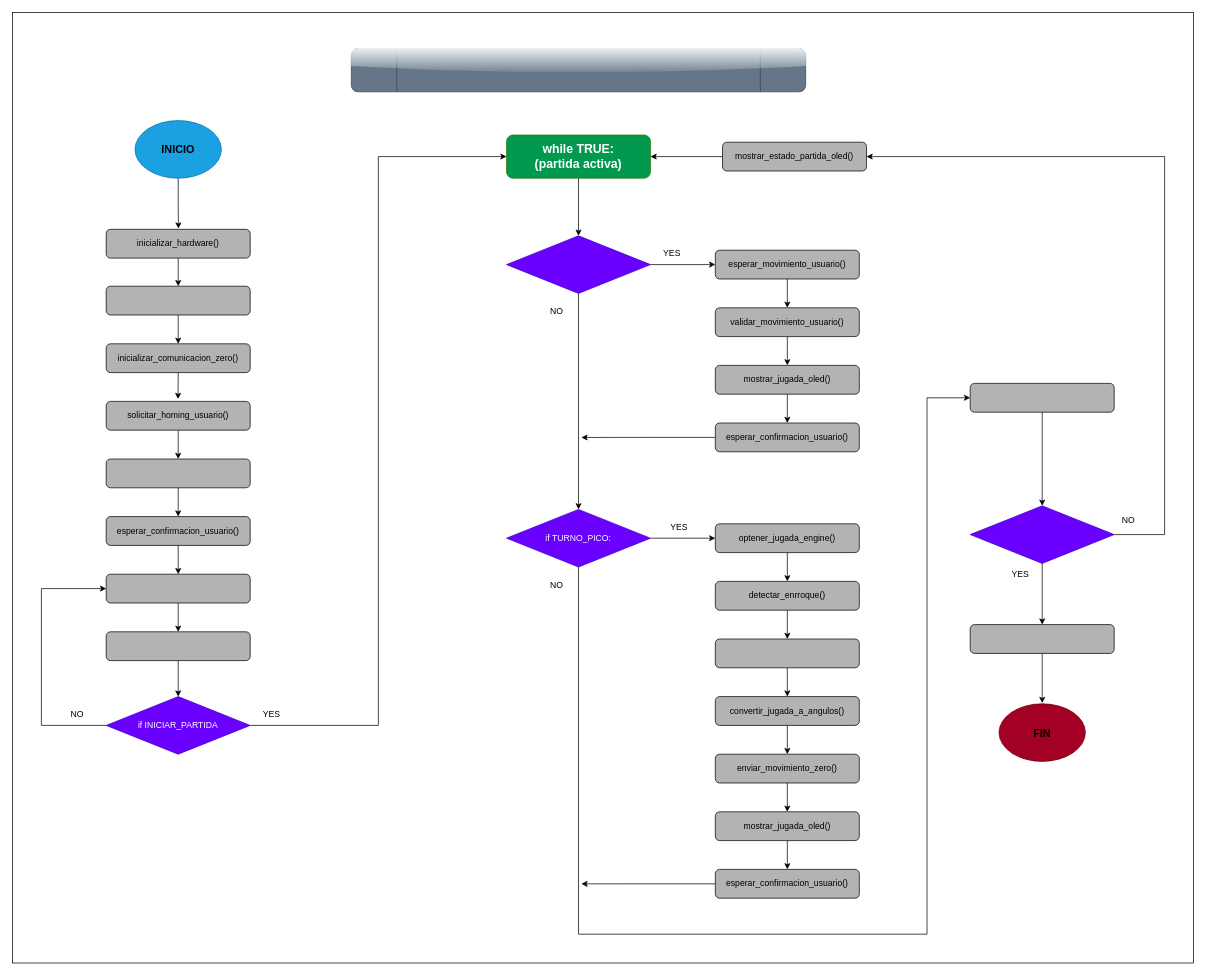
Some shapes in this 1206 by 976 pixel diagram are drawn without their labels. Each missing label, with the centre of its shape:
"actualizar_estado_tablero()" goes at point 1041,397.
"detectar_captura()" goes at point 787,653.
"Diagrama de flujo main.py" goes at point 578,70.
"elejir_color_usuario()" goes at point 177,588.
"elejir_dificultad_usuario()" goes at point 177,646.
"enviar_comando_homing_zero()" goes at point 177,473.
"if FIN_DE_PARTIDA:" goes at point 1041,534.
"if TURNO_USUARIO:" goes at point 578,264.
"inicializar_oled()" goes at point 177,300.
"mostrar_fin_de_partida_oled()" goes at point 1041,638.
